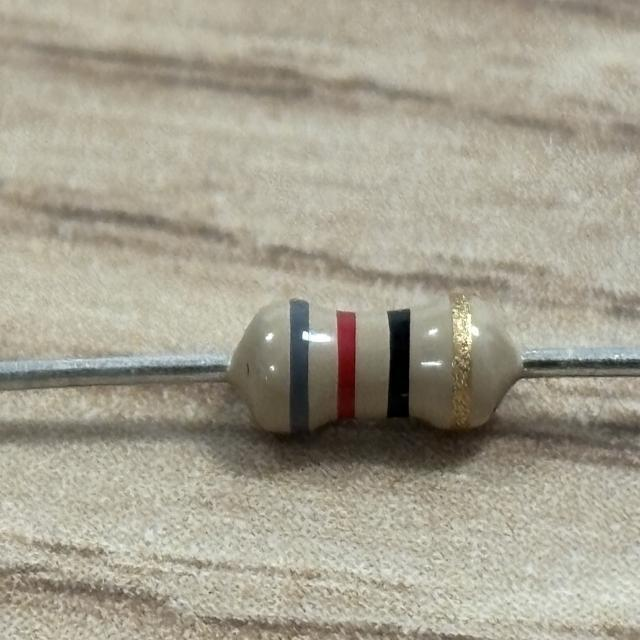resistor: (246, 290, 497, 436)
